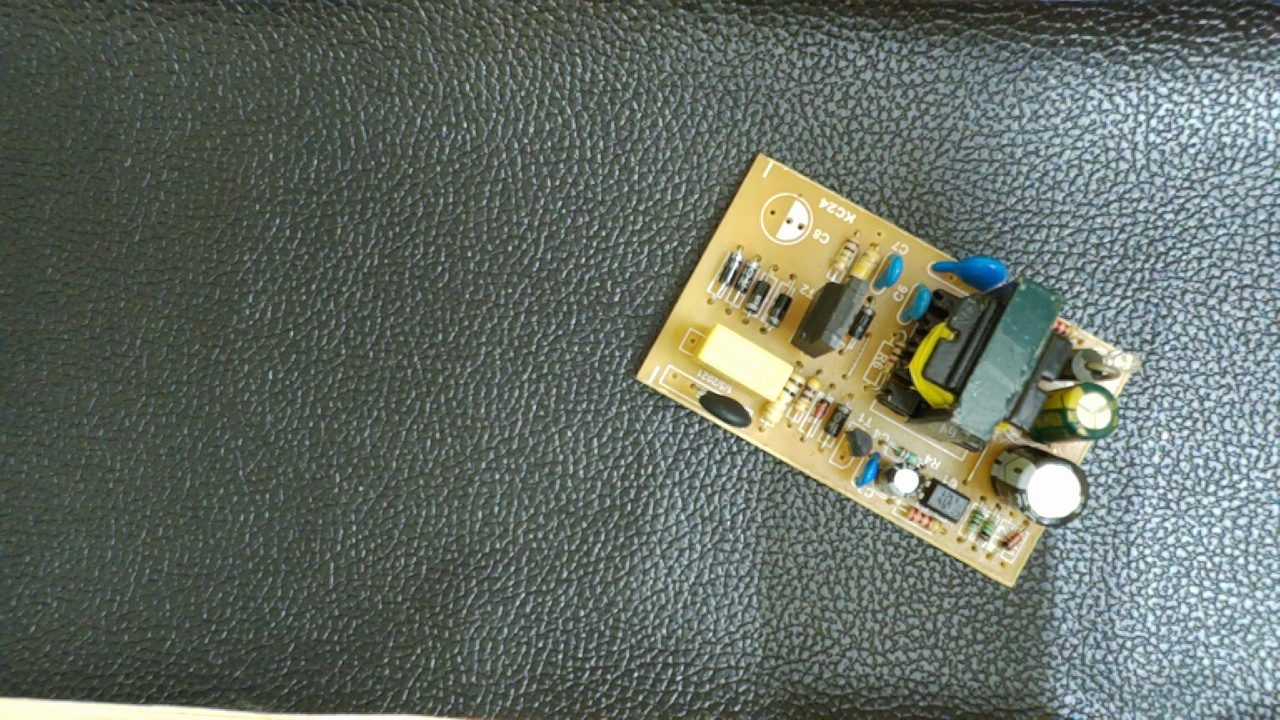fuse: (689, 378, 755, 432)
mov: (930, 252, 1016, 291)
optocoupler: (917, 471, 972, 525)
